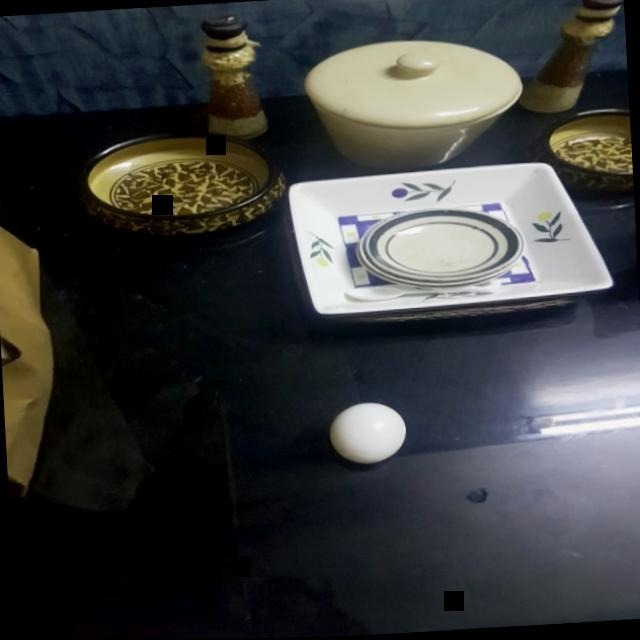eggs: (326, 397, 407, 464)
